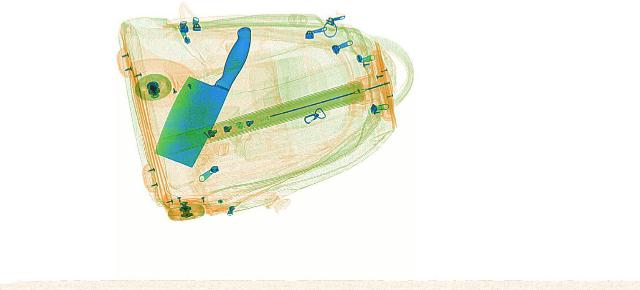Knife: (142, 23, 262, 166)
